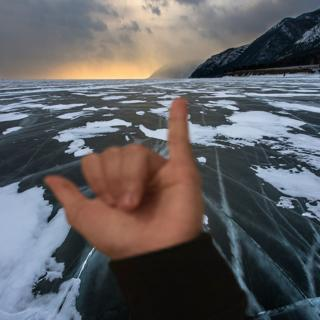HAVE: (29, 92, 215, 261)
